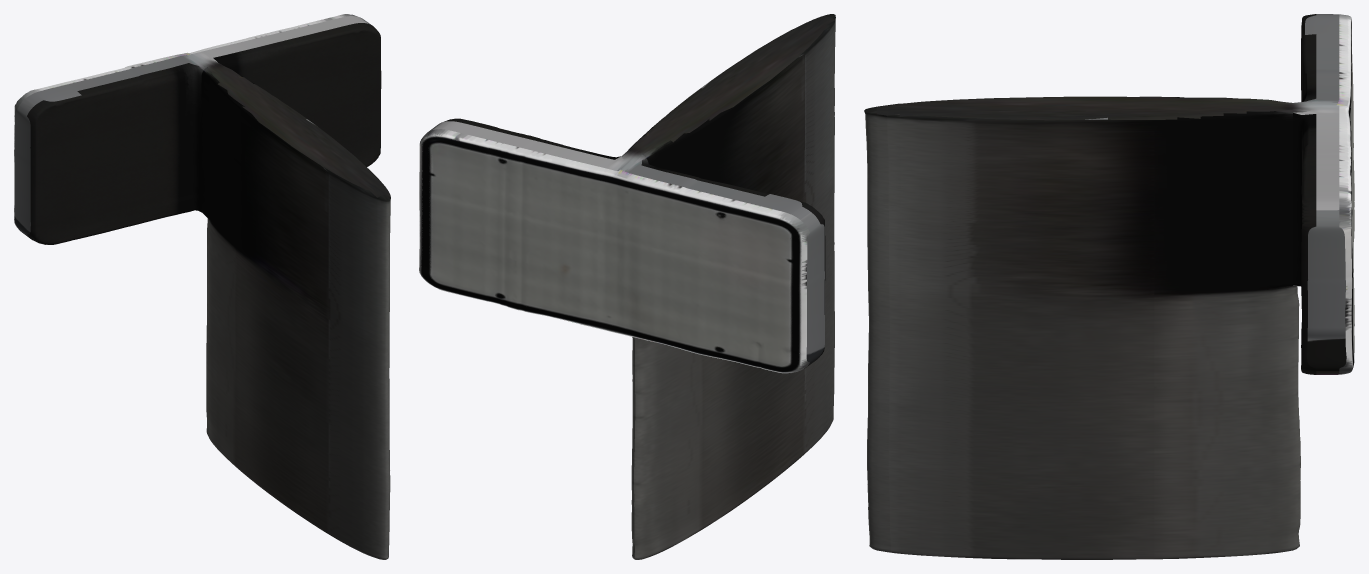
File: street-sign-post.glb
3 renders of one model, left to right at view 1: azimuth 30°, elevation 25°; view 2: azimuth 150°, elevation 25°; view 3: azimuth 270°, elevation 25°, orthographic. The views are drawn at different scales.
Parts seen in each view (by area): view 1: tmpgny2mqpj.ply; view 2: tmpgny2mqpj.ply; view 3: tmpgny2mqpj.ply.
Boxes of the visible parts, <box> form: tmpgny2mqpj.ply: <box>14,14,390,559</box>; tmpgny2mqpj.ply: <box>419,14,835,559</box>; tmpgny2mqpj.ply: <box>864,14,1354,559</box>.
Size of the model in its own units: 1 by 1 by 1.
1 material, 1 textured.
